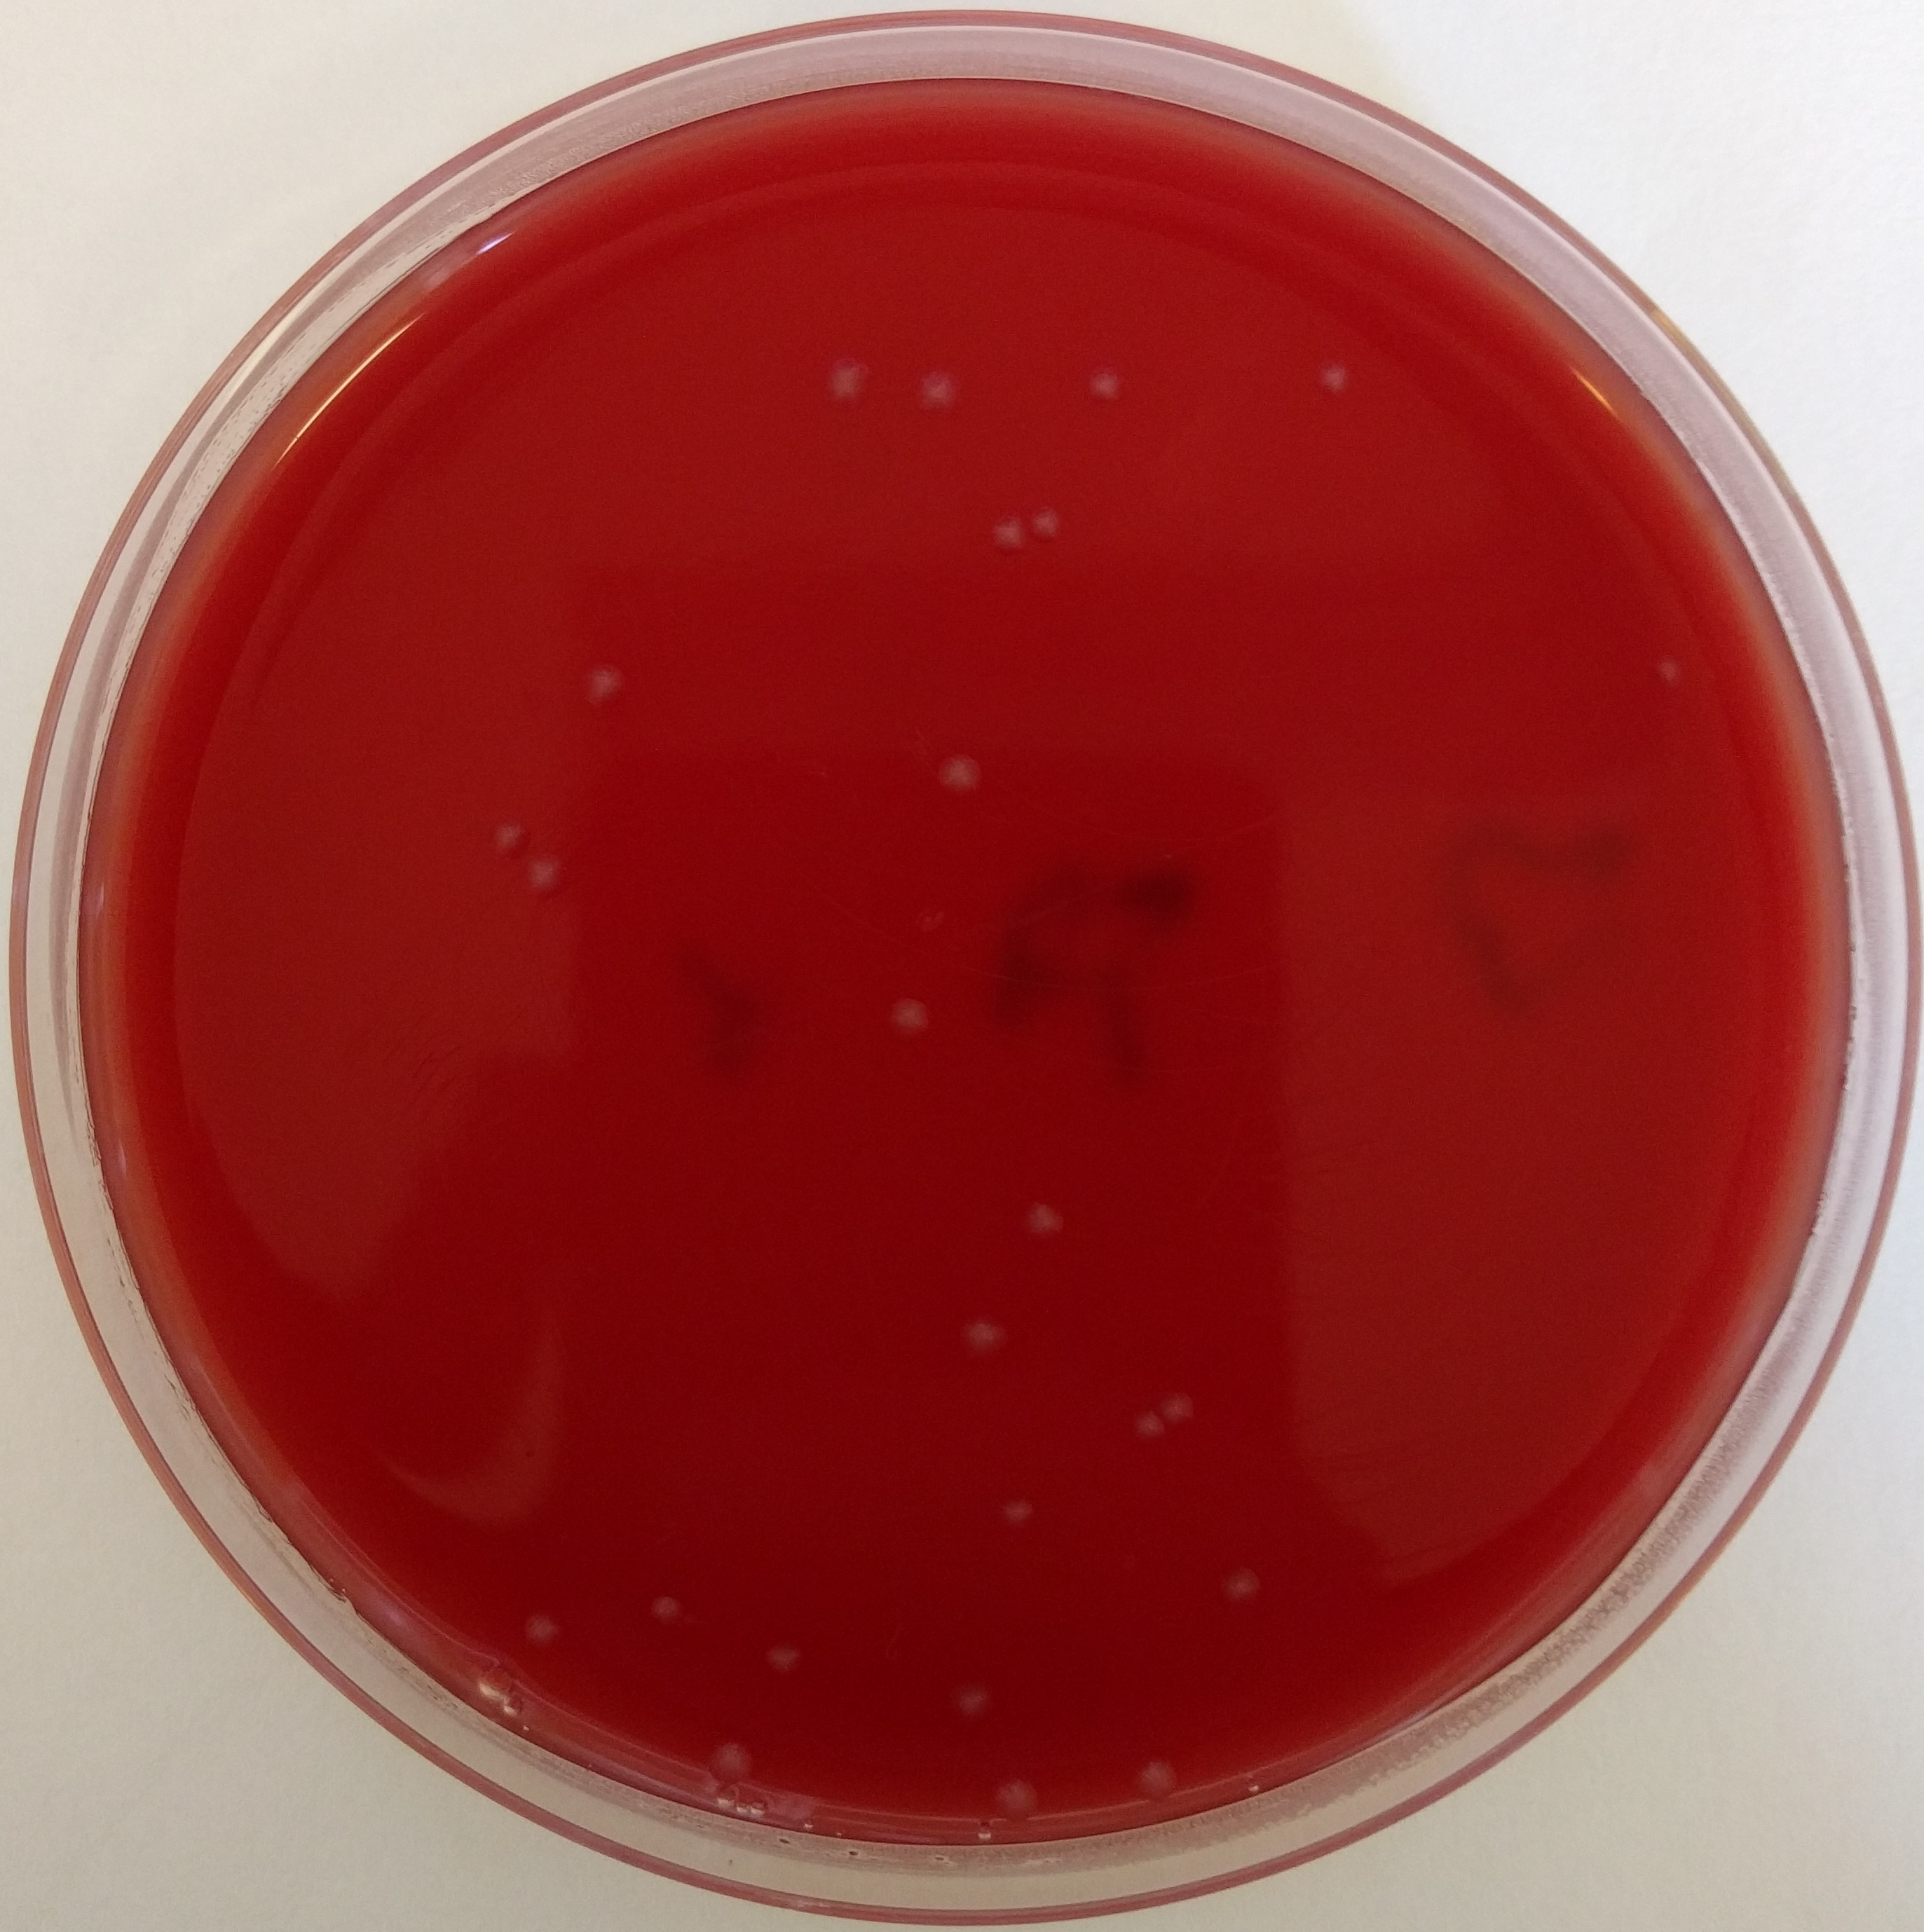sp18: (684, 1726, 782, 1807), (809, 328, 884, 426), (1011, 1173, 1087, 1272), (914, 328, 994, 421), (1114, 1731, 1184, 1816), (476, 785, 543, 865), (499, 840, 583, 896), (1202, 1566, 1286, 1622), (943, 738, 1018, 800), (869, 979, 939, 1044), (923, 1680, 1008, 1733), (1293, 350, 1369, 409), (766, 1620, 842, 1677), (985, 1773, 1064, 1825), (1151, 1375, 1235, 1423), (971, 512, 1032, 574), (1091, 350, 1152, 409), (951, 1310, 1018, 1363), (997, 1483, 1055, 1539), (1122, 1404, 1175, 1465), (573, 655, 654, 694), (1644, 638, 1688, 708), (504, 1592, 566, 1640), (647, 1560, 680, 1640), (1036, 490, 1078, 551)
